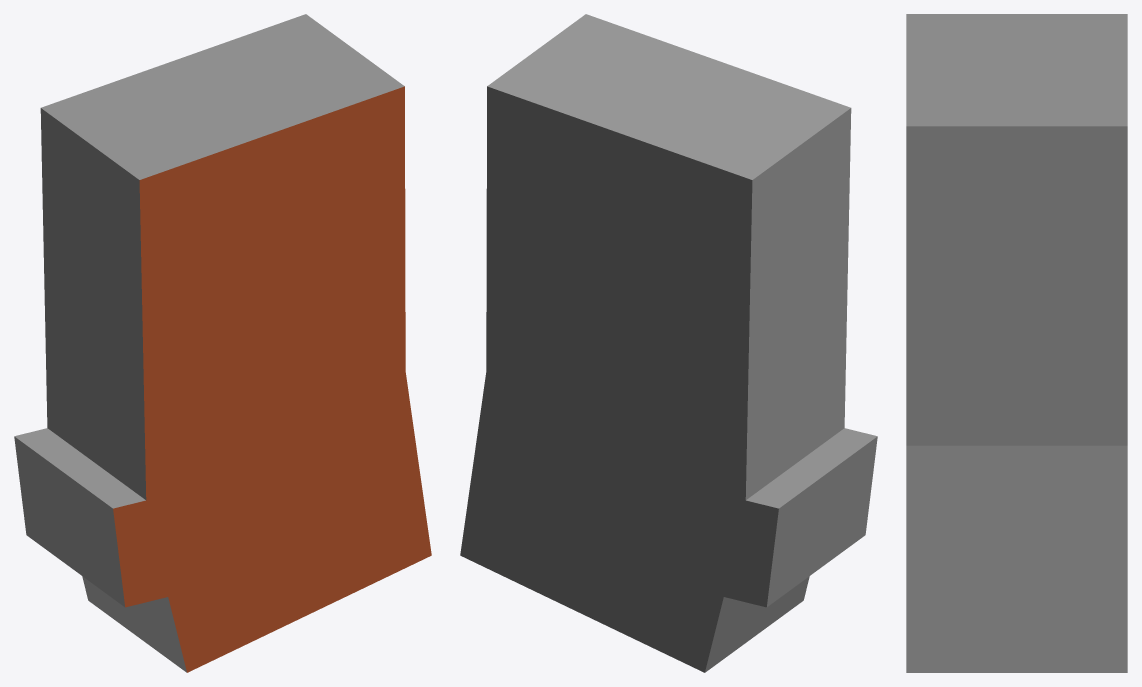
File: construction_1282_assumed_A_Casa_h6m.obj
The picture shows the model from 3 angles, left to right: view 1: azimuth 30°, elevation 25°; view 2: azimuth 150°, elevation 25°; view 3: azimuth 270°, elevation 25°; orthographic projection. The views are drawn at different scales.
Visible parts, largest first — view 1: construction_1282_assumed_A_Casa; view 2: construction_1282_assumed_A_Casa; view 3: construction_1282_assumed_A_Casa.
Boxes of the visible parts, x1,y1,x2,y2 form: construction_1282_assumed_A_Casa: (14,14,431,672); construction_1282_assumed_A_Casa: (460,14,877,672); construction_1282_assumed_A_Casa: (906,14,1127,672).
Size of the model in its own units: 11.17 by 17.86 by 6.
